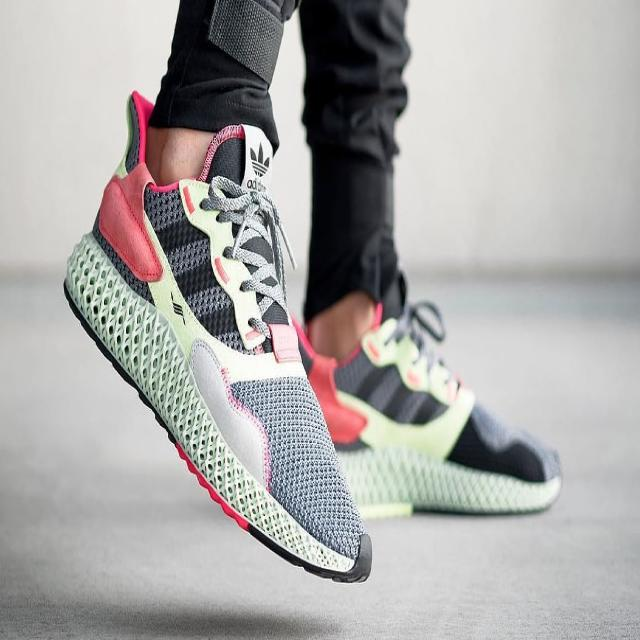shoe: (59, 88, 377, 588), (291, 278, 568, 522)
